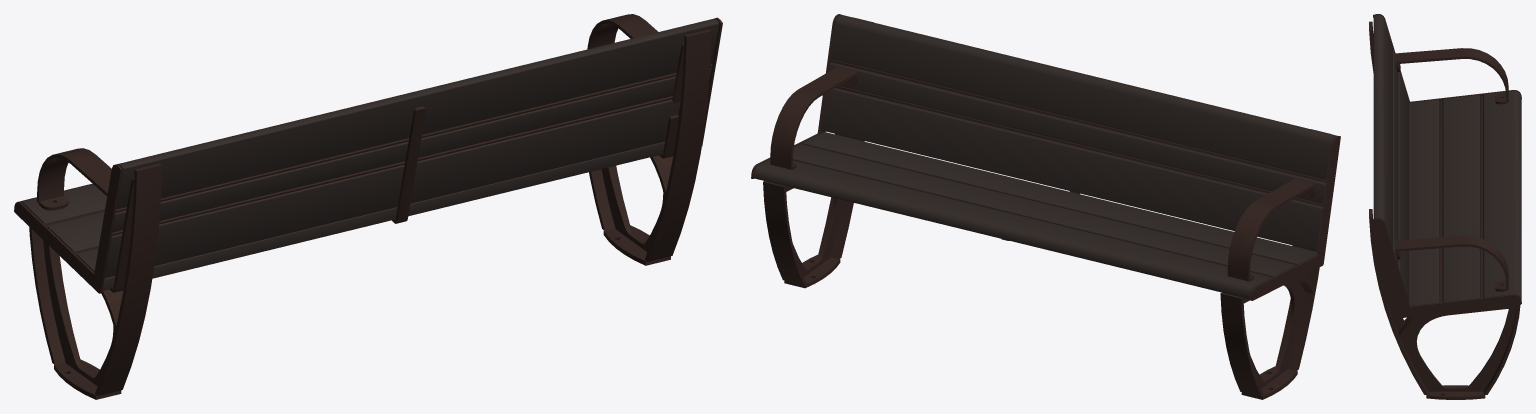
3 views of the same model, side by side, from view 1: azimuth 30°, elevation 25°; view 2: azimuth 150°, elevation 25°; view 3: azimuth 270°, elevation 25° (orthographic). The views are drawn at different scales.
Visible parts, largest first — view 1: mesh4_mesh4-geometry, mesh7_mesh7-geometry, mesh47_mesh47-geometry, mesh1_mesh1-geometry, mesh37_mesh37-geometry, mesh45_mesh45-geometry, mesh51_mesh51-geometry, mesh13_mesh13-geometry, mesh15_mesh15-geometry, mesh16_mesh16-geometry, mesh57_mesh57-geometry, mesh10_mesh10-geometry (+3 smaller); view 2: mesh4_mesh4-geometry, mesh7_mesh7-geometry, mesh1_mesh1-geometry, mesh37_mesh37-geometry, mesh45_mesh45-geometry, mesh51_mesh51-geometry, mesh47_mesh47-geometry, mesh13_mesh13-geometry, mesh15_mesh15-geometry, mesh16_mesh16-geometry, mesh57_mesh57-geometry; view 3: mesh4_mesh4-geometry, mesh7_mesh7-geometry, mesh37_mesh37-geometry, mesh51_mesh51-geometry, mesh14_mesh14-geometry, mesh47_mesh47-geometry, mesh1_mesh1-geometry, mesh55_mesh55-geometry, mesh17_mesh17-geometry, mesh18_mesh18-geometry, mesh57_mesh57-geometry, mesh45_mesh45-geometry (+3 smaller).
Boxes of the visible parts, left/top/right/bottom form: mesh4_mesh4-geometry: left=47, top=99, right=680, bottom=290; mesh7_mesh7-geometry: left=20, top=18, right=719, bottom=225; mesh47_mesh47-geometry: left=95, top=29, right=711, bottom=395; mesh1_mesh1-geometry: left=112, top=68, right=711, bottom=232; mesh37_mesh37-geometry: left=37, top=14, right=657, bottom=202; mesh45_mesh45-geometry: left=29, top=165, right=629, bottom=364; mesh51_mesh51-geometry: left=43, top=166, right=664, bottom=386; mesh13_mesh13-geometry: left=14, top=164, right=122, bottom=293; mesh15_mesh15-geometry: left=115, top=64, right=712, bottom=212; mesh16_mesh16-geometry: left=112, top=96, right=672, bottom=235; mesh57_mesh57-geometry: left=54, top=225, right=670, bottom=399; mesh10_mesh10-geometry: left=392, top=106, right=425, bottom=223; mesh4_mesh4-geometry: left=792, top=88, right=1323, bottom=277; mesh7_mesh7-geometry: left=753, top=14, right=1337, bottom=299; mesh1_mesh1-geometry: left=828, top=62, right=1326, bottom=203; mesh37_mesh37-geometry: left=770, top=67, right=1315, bottom=281; mesh45_mesh45-geometry: left=763, top=181, right=1263, bottom=396; mesh51_mesh51-geometry: left=786, top=188, right=1304, bottom=388; mesh47_mesh47-geometry: left=818, top=17, right=1331, bottom=370; mesh13_mesh13-geometry: left=1250, top=136, right=1340, bottom=300; mesh15_mesh15-geometry: left=830, top=59, right=1326, bottom=182; mesh16_mesh16-geometry: left=836, top=85, right=1323, bottom=206; mesh57_mesh57-geometry: left=784, top=254, right=1297, bottom=399; mesh4_mesh4-geometry: left=1398, top=72, right=1480, bottom=306; mesh7_mesh7-geometry: left=1373, top=15, right=1521, bottom=299; mesh37_mesh37-geometry: left=1395, top=48, right=1508, bottom=290; mesh51_mesh51-geometry: left=1401, top=305, right=1516, bottom=391; mesh14_mesh14-geometry: left=1373, top=218, right=1521, bottom=317; mesh47_mesh47-geometry: left=1369, top=21, right=1428, bottom=394; mesh1_mesh1-geometry: left=1393, top=49, right=1398, bottom=266; mesh55_mesh55-geometry: left=1373, top=32, right=1404, bottom=332; mesh17_mesh17-geometry: left=1440, top=100, right=1442, bottom=302; mesh18_mesh18-geometry: left=1481, top=96, right=1483, bottom=298; mesh57_mesh57-geometry: left=1426, top=385, right=1485, bottom=399; mesh45_mesh45-geometry: left=1483, top=304, right=1520, bottom=394.
Size of the model in its own units: 0.8863 by 0.3698 by 0.2787.
